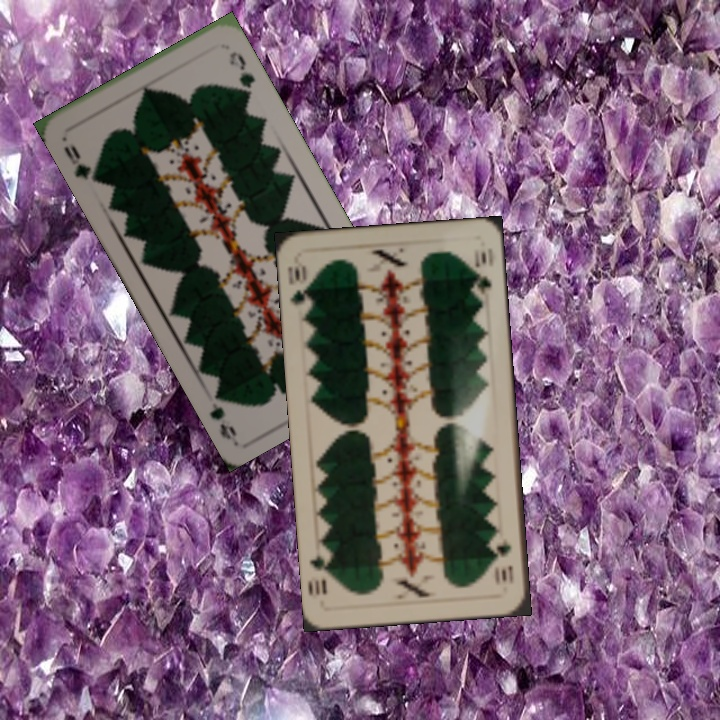G10: (283, 256, 314, 314), (491, 535, 516, 587)
G9: (59, 139, 100, 185)
